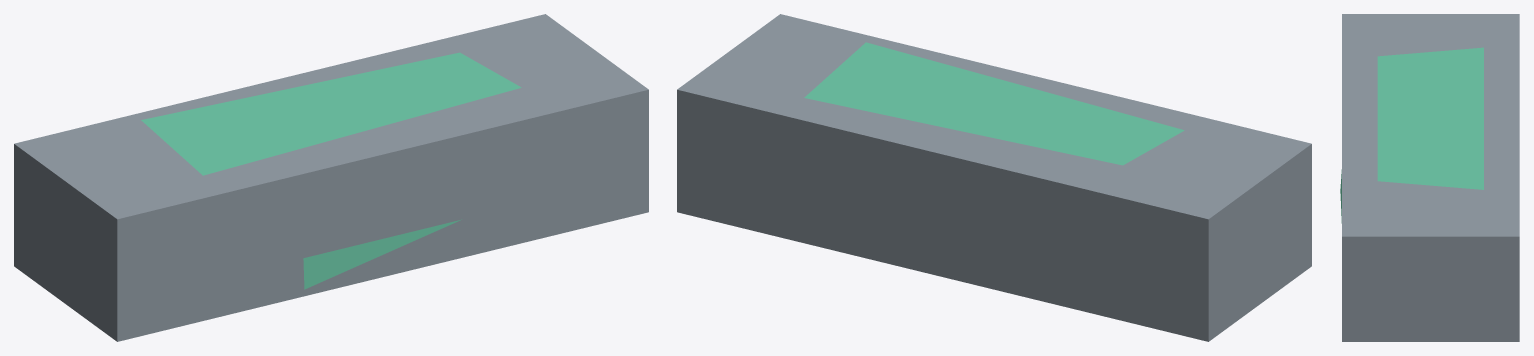
File: CO_KazekiriCorvette_LOD1.glb
3 renders of one model, left to right at view 1: azimuth 30°, elevation 25°; view 2: azimuth 150°, elevation 25°; view 3: azimuth 270°, elevation 25°, orthographic. The views are drawn at different scales.
Visible parts, largest first — view 1: EntranceGate; view 2: EntranceGate; view 3: EntranceGate.
Part boxes in pixels (x1,y1,x2,y2): EntranceGate: (14,14,648,341); EntranceGate: (677,14,1311,341); EntranceGate: (1340,14,1519,341).
Bounding box in the file's own units: 980 × 239 × 333.
